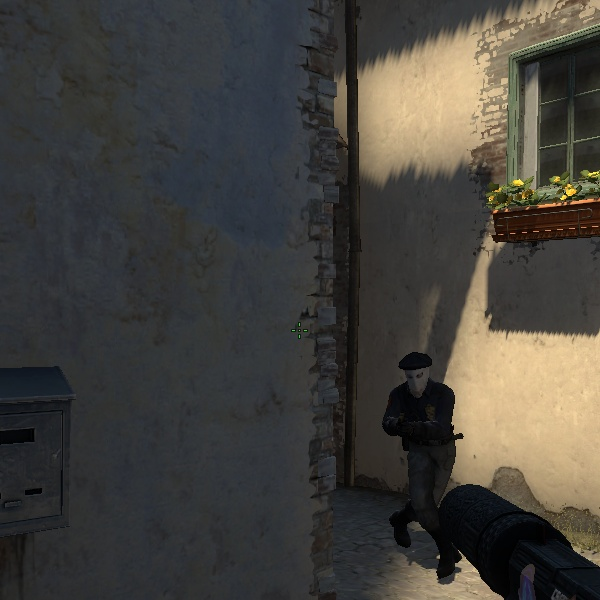ct_head: (393, 349, 441, 395)
